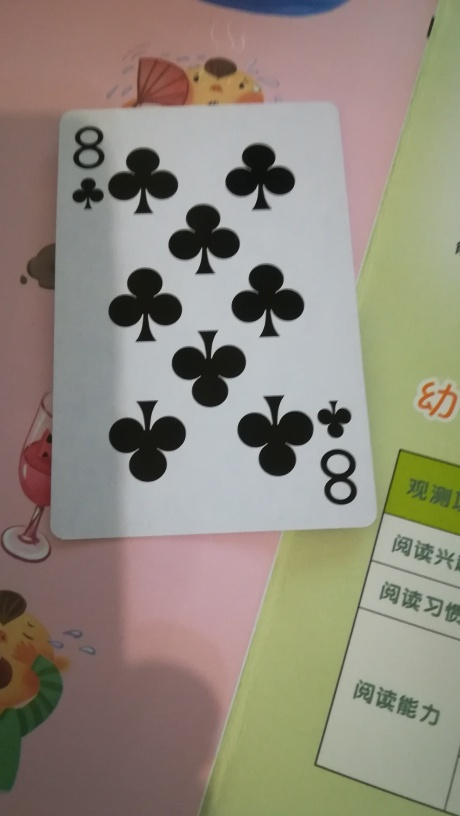mh 8: (49, 101, 377, 540)
